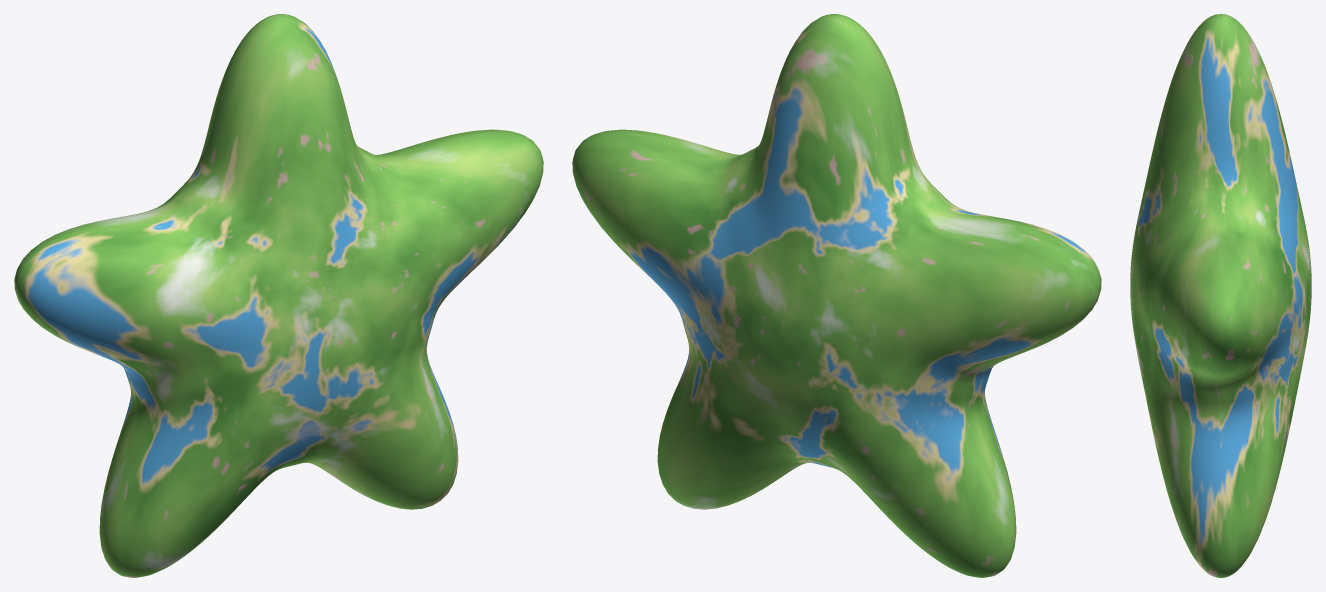
Rendered from planeta2_planeta.obj.
3 views of the same model, side by side, from view 1: azimuth 30°, elevation 25°; view 2: azimuth 150°, elevation 25°; view 3: azimuth 270°, elevation 25° (orthographic). The views are drawn at different scales.
Parts seen in each view (by area): view 1: planeta2_planeta; view 2: planeta2_planeta; view 3: planeta2_planeta.
Boxes of the visible parts, left/top/right/bottom form: planeta2_planeta: left=14, top=14, right=543, bottom=577; planeta2_planeta: left=572, top=14, right=1101, bottom=577; planeta2_planeta: left=1130, top=14, right=1311, bottom=577.
Size of the model in its own units: 3.44 by 3.29 by 1.1.
